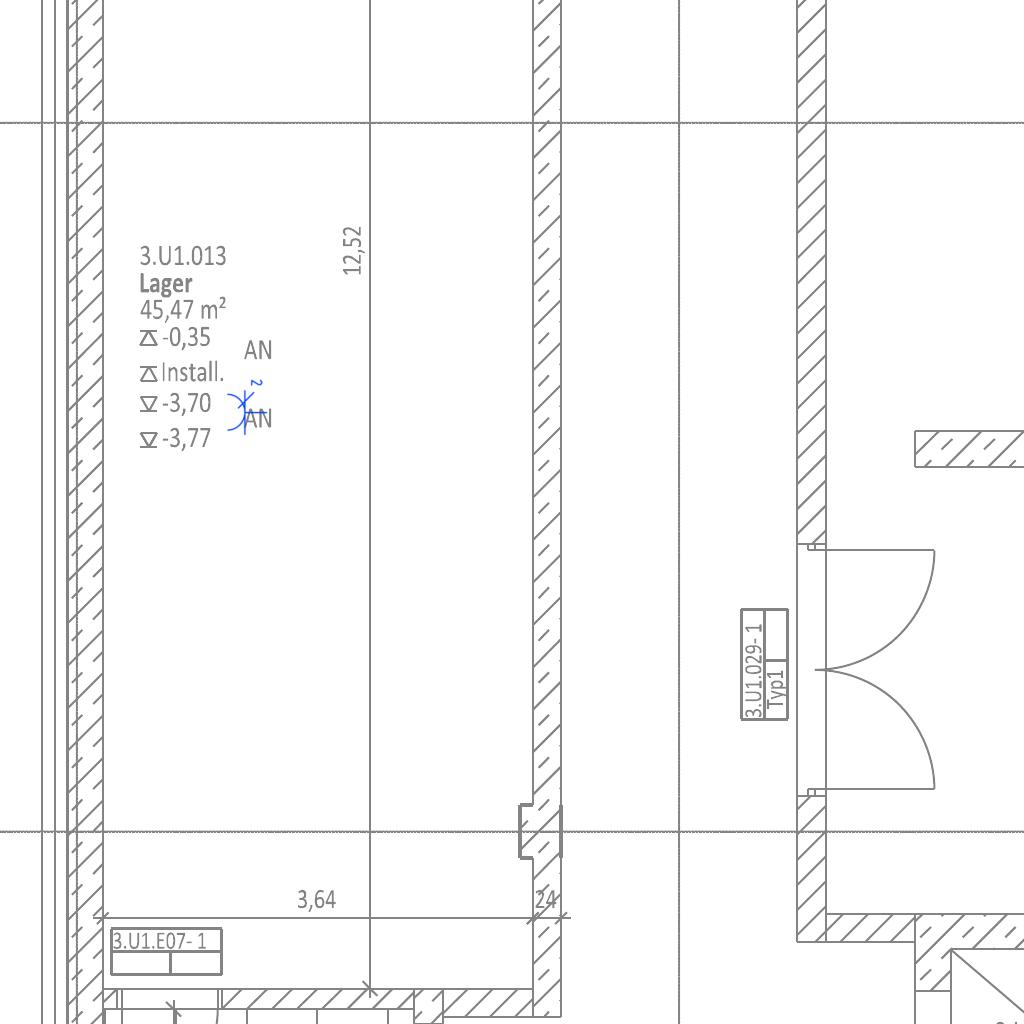Schukosteckdose_mehrfach: (224, 376, 268, 436)
